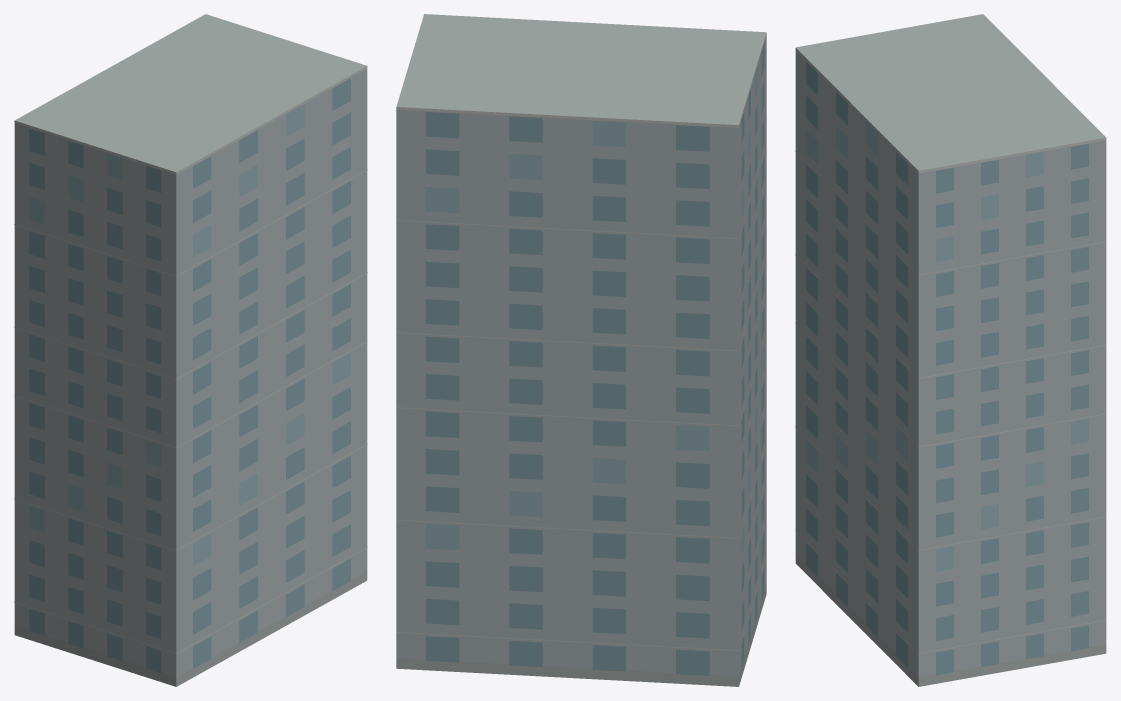
Rendered from residential-8229ce17-6f4d-4c4c-89ad-6f0d8a16ab2b.glb.
The picture shows the model from 3 angles, left to right: view 1: azimuth 30°, elevation 25°; view 2: azimuth 150°, elevation 25°; view 3: azimuth 270°, elevation 25°; orthographic projection. The views are drawn at different scales.
Visible parts, largest first — view 1: residential-8229ce17-6f4d-4c4c-89ad-6f0d8a16ab2b.tmp; view 2: residential-8229ce17-6f4d-4c4c-89ad-6f0d8a16ab2b.tmp; view 3: residential-8229ce17-6f4d-4c4c-89ad-6f0d8a16ab2b.tmp.
Part boxes in pixels (left/top/right/bottom): residential-8229ce17-6f4d-4c4c-89ad-6f0d8a16ab2b.tmp: left=14, top=14, right=367, bottom=686; residential-8229ce17-6f4d-4c4c-89ad-6f0d8a16ab2b.tmp: left=396, top=14, right=766, bottom=686; residential-8229ce17-6f4d-4c4c-89ad-6f0d8a16ab2b.tmp: left=795, top=14, right=1106, bottom=686.
Bounding box in the file's own units: 31.98 × 49 × 26.76.
